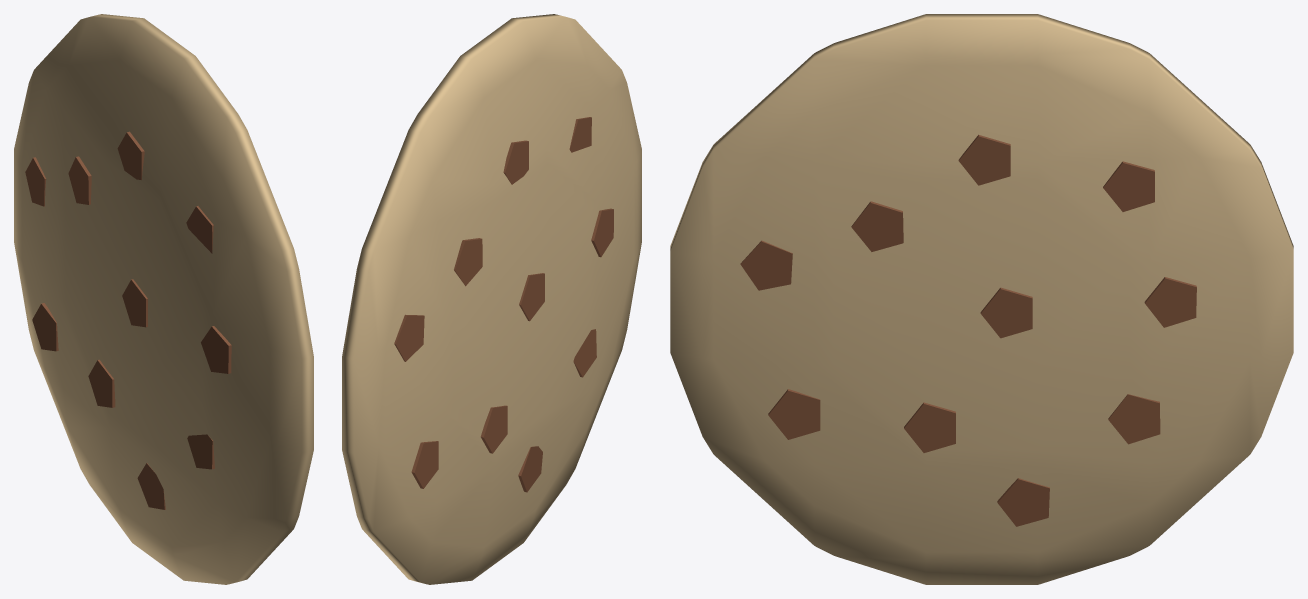
The model's file is cookie.fbx.
3 renders of one model, left to right at view 1: azimuth 30°, elevation 25°; view 2: azimuth 150°, elevation 25°; view 3: azimuth 270°, elevation 25°, orthographic. The views are drawn at different scales.
Visible parts, largest first — view 1: Mball, Cylinder.001; view 2: Mball, Cylinder.001; view 3: Mball, Cylinder.005.
Part boxes in pixels (x1,y1,x2,y2): Mball: (14, 14, 313, 584); Cylinder.001: (25, 131, 231, 509); Mball: (342, 14, 641, 584); Cylinder.001: (394, 117, 613, 492); Mball: (670, 14, 1293, 584); Cylinder.005: (740, 134, 1196, 526).
Bounding box in the file's own units: 32.19 × 223 × 223.
